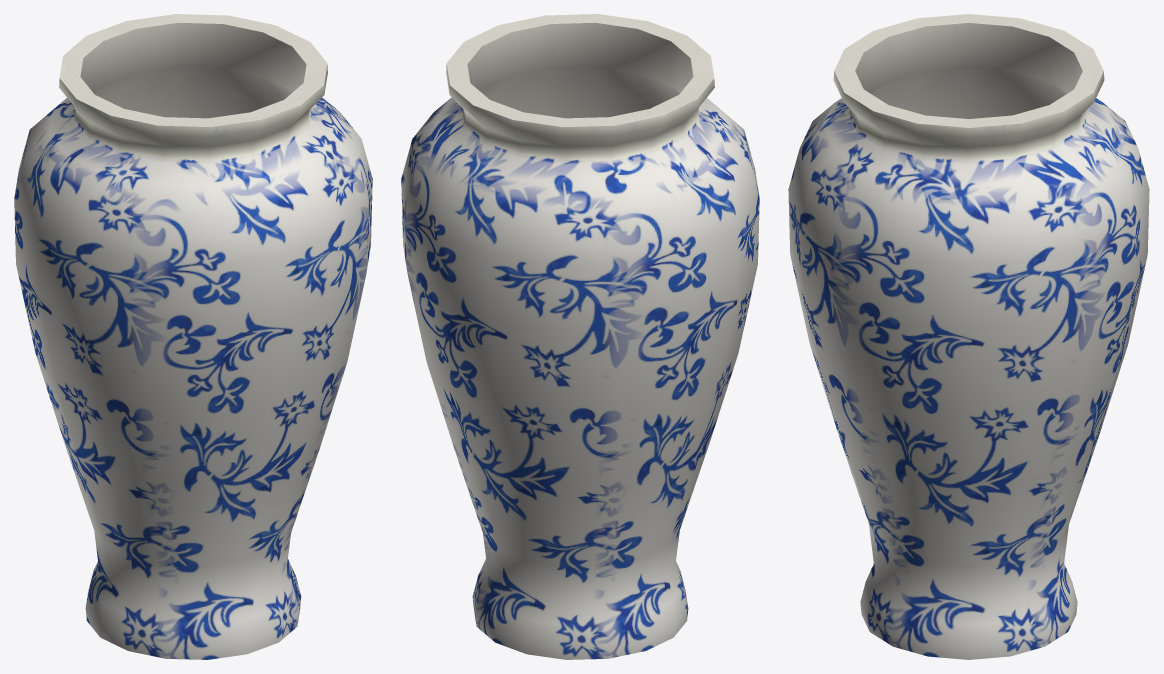
Rendered from vase1_lp.FBX.
3 renders of one model, left to right at view 1: azimuth 30°, elevation 25°; view 2: azimuth 150°, elevation 25°; view 3: azimuth 270°, elevation 25°, orthographic.
Visible parts, largest first — view 1: vase1; view 2: vase1; view 3: vase1.
Boxes of the visible parts, box(x1,y1,x2,y2) form: vase1: box(14, 14, 372, 659); vase1: box(401, 14, 759, 659); vase1: box(788, 14, 1149, 659).
Size of the model in its own units: 51.29 by 85.2 by 51.29.
1 material, 1 textured.
